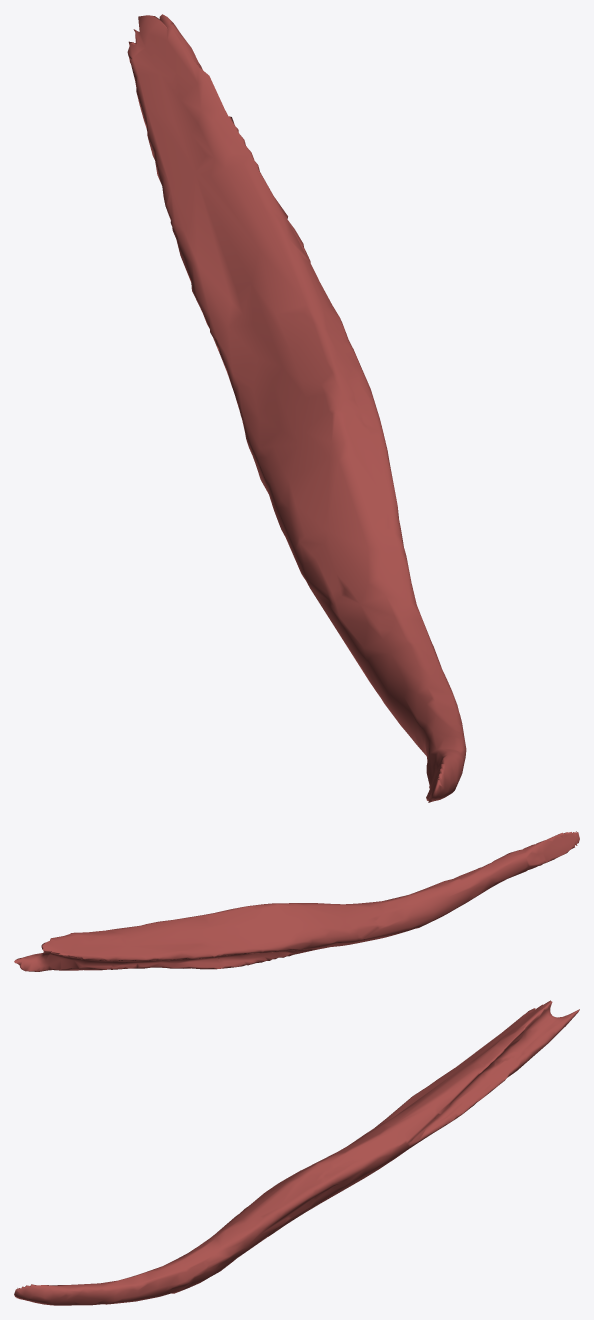
The model's file is FMA37719.glb.
The picture shows the model from 3 angles, top to bottom: view 1: azimuth 30°, elevation 25°; view 2: azimuth 150°, elevation 25°; view 3: azimuth 330°, elevation 25°; orthographic projection. The views are drawn at different scales.
Parts seen in each view (by area): view 1: FMA37719; view 2: FMA37719; view 3: FMA37719.
Part boxes in pixels (x1,y1,x2,y2): FMA37719: (127,14,466,802); FMA37719: (14,831,579,971); FMA37719: (14,1000,579,1305).
Size of the model in its own units: 0.025 by 0.0148 by 0.0704.
